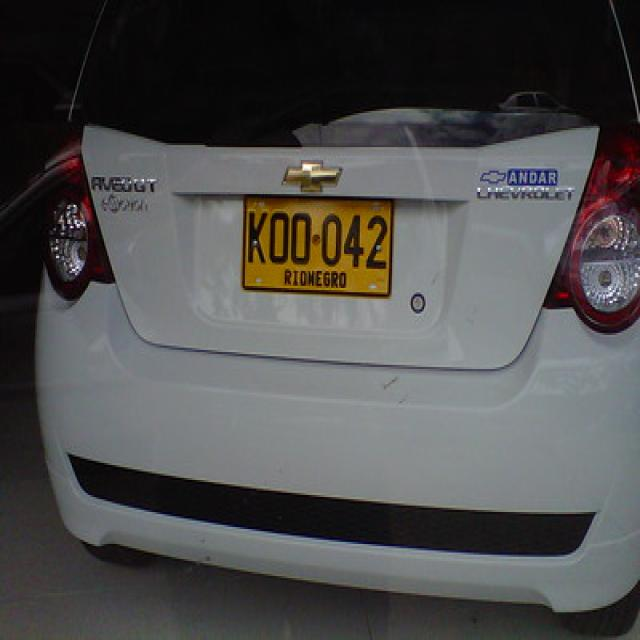placa_carro: (242, 186, 395, 304)
